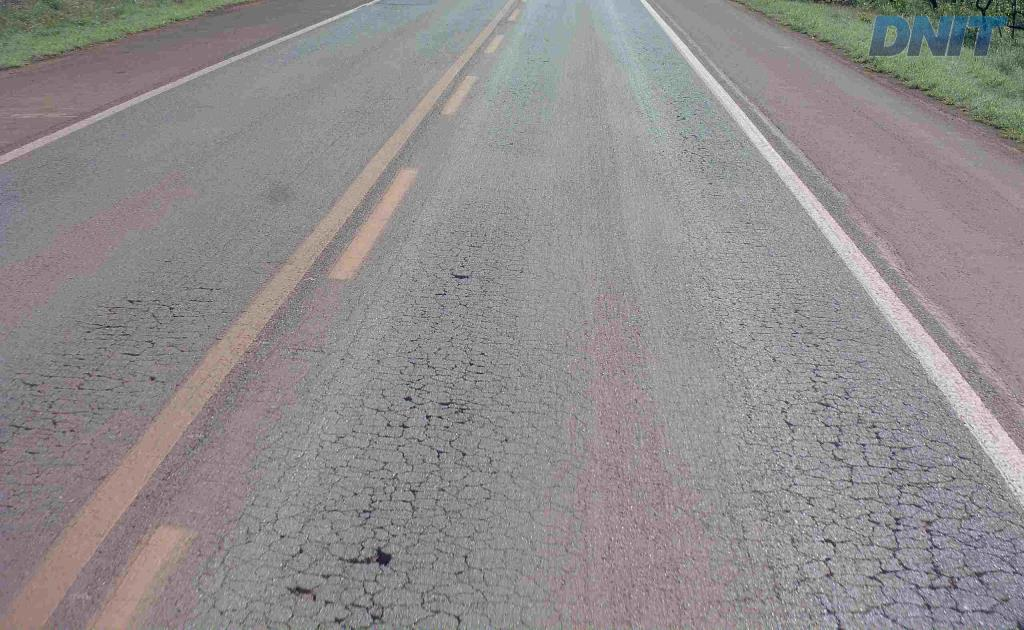crack: (926, 547, 966, 604), (337, 537, 394, 575)
